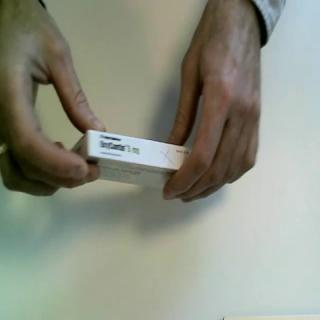oxycontin5mg: (69, 128, 195, 197)
